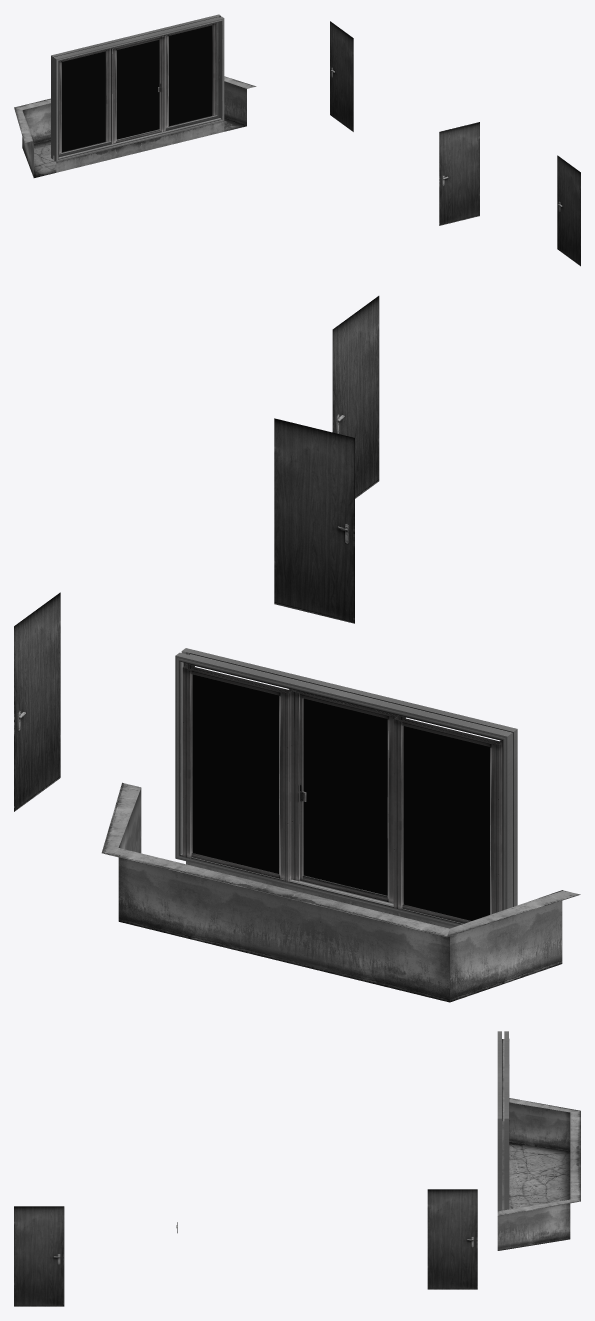
File: apartment_balcony.fbx
3 views of the same model, one above another, from view 1: azimuth 30°, elevation 25°; view 2: azimuth 150°, elevation 25°; view 3: azimuth 270°, elevation 25° (orthographic). The views are drawn at different scales.
Visible parts, largest first — view 1: apartment_balcony, balcony_windows; view 2: apartment_balcony, balcony_windows; view 3: apartment_balcony.
Part boxes in pixels (box(x1,y1,x2,y2)): apartment_balcony: box(14, 14, 580, 266); balcony_windows: box(61, 25, 212, 152); apartment_balcony: box(14, 296, 580, 1002); balcony_windows: box(192, 674, 489, 920); apartment_balcony: box(14, 1031, 580, 1306).
Size of the model in its own units: 907 by 299 by 1271.
